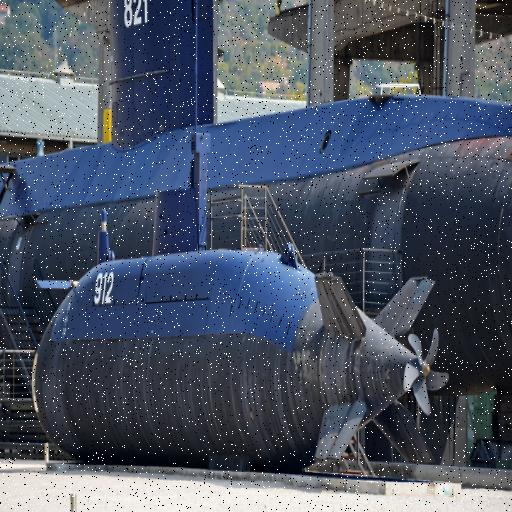submarine: (1, 1, 512, 392), (31, 248, 439, 472)
